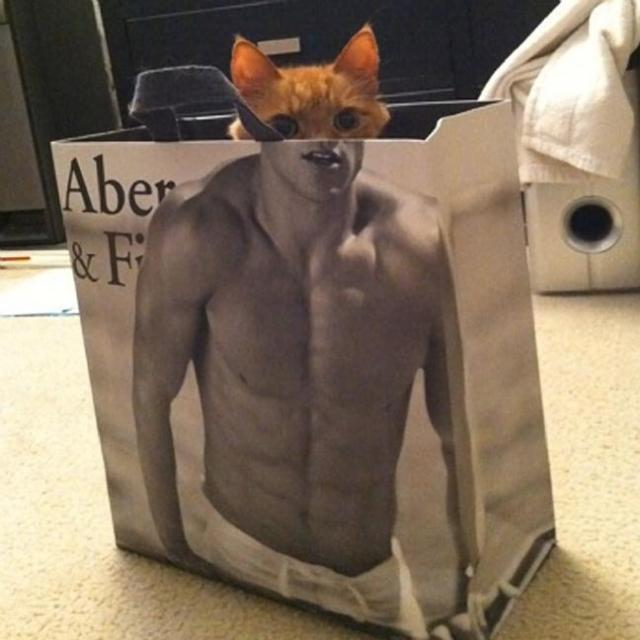cat: (196, 16, 448, 159)
